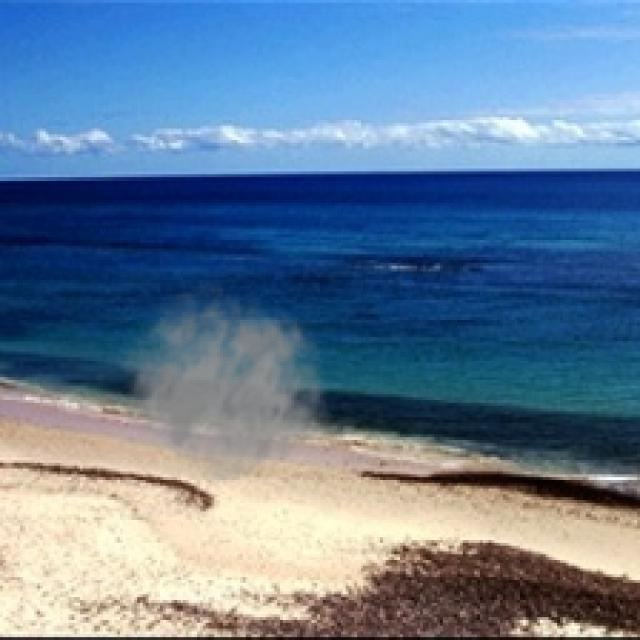Smoke: (108, 280, 334, 483)
